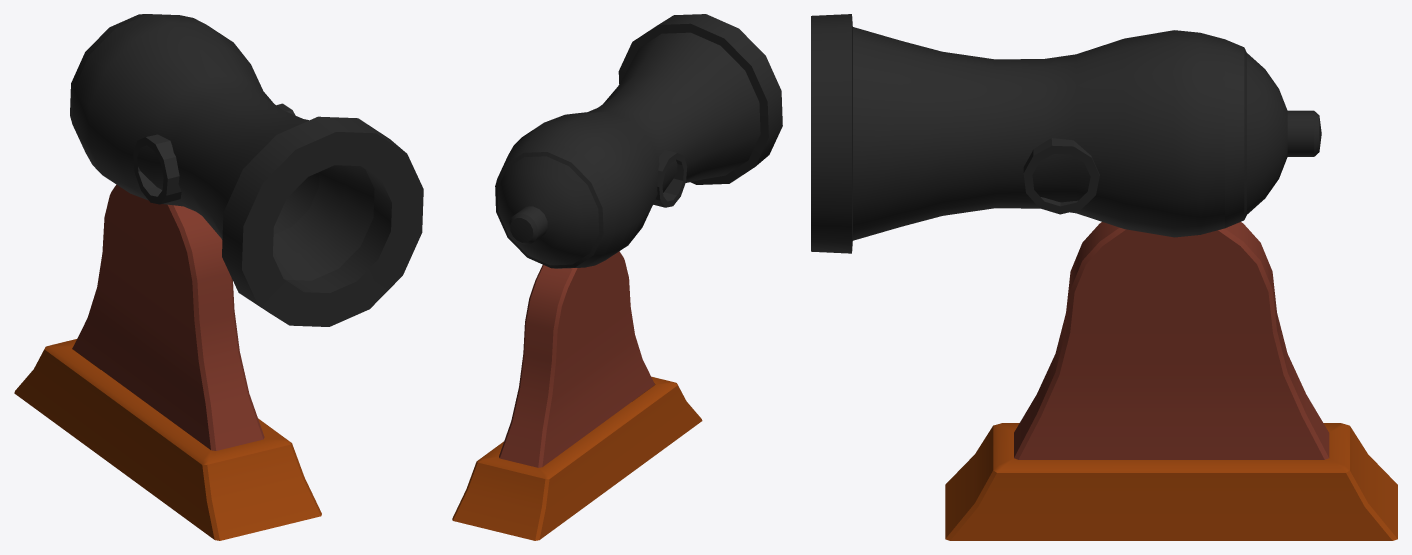
The model's file is pushka.fbx.
3 renders of one model, left to right at view 1: azimuth 30°, elevation 25°; view 2: azimuth 150°, elevation 25°; view 3: azimuth 270°, elevation 25°, orthographic. The views are drawn at different scales.
Visible parts, largest first — view 1: polySurface7, polySurface4.001; view 2: polySurface7, polySurface4.001; view 3: polySurface4.001, polySurface7.
Boxes of the visible parts, x1,y1,x2,y2 form: polySurface7: [70, 14, 423, 326]; polySurface4.001: [14, 184, 321, 540]; polySurface7: [495, 14, 782, 268]; polySurface4.001: [452, 251, 702, 540]; polySurface4.001: [945, 222, 1397, 540]; polySurface7: [811, 14, 1321, 253].
Size of the model in its own units: 128 by 292 by 319.
